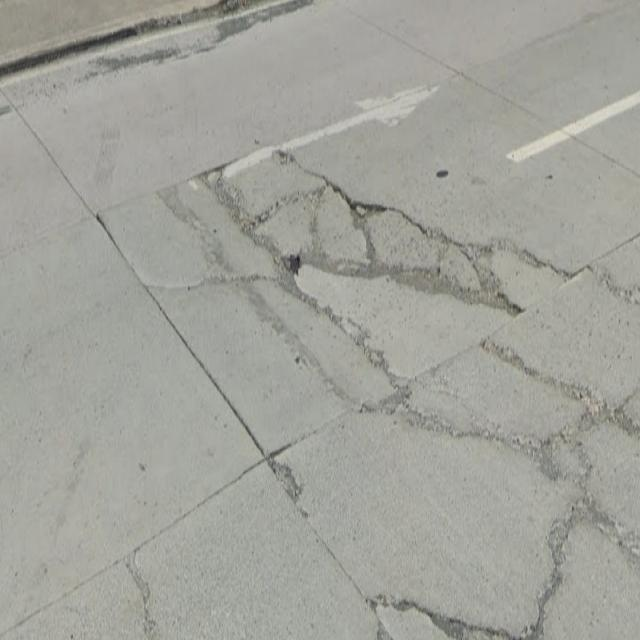pothole: (188, 92, 640, 640)
